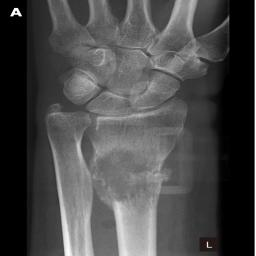cancer: (90, 148, 162, 205)
